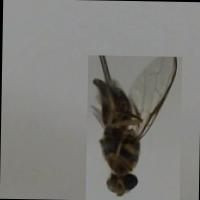Oriental-fruit-fly: (83, 54, 180, 200)
